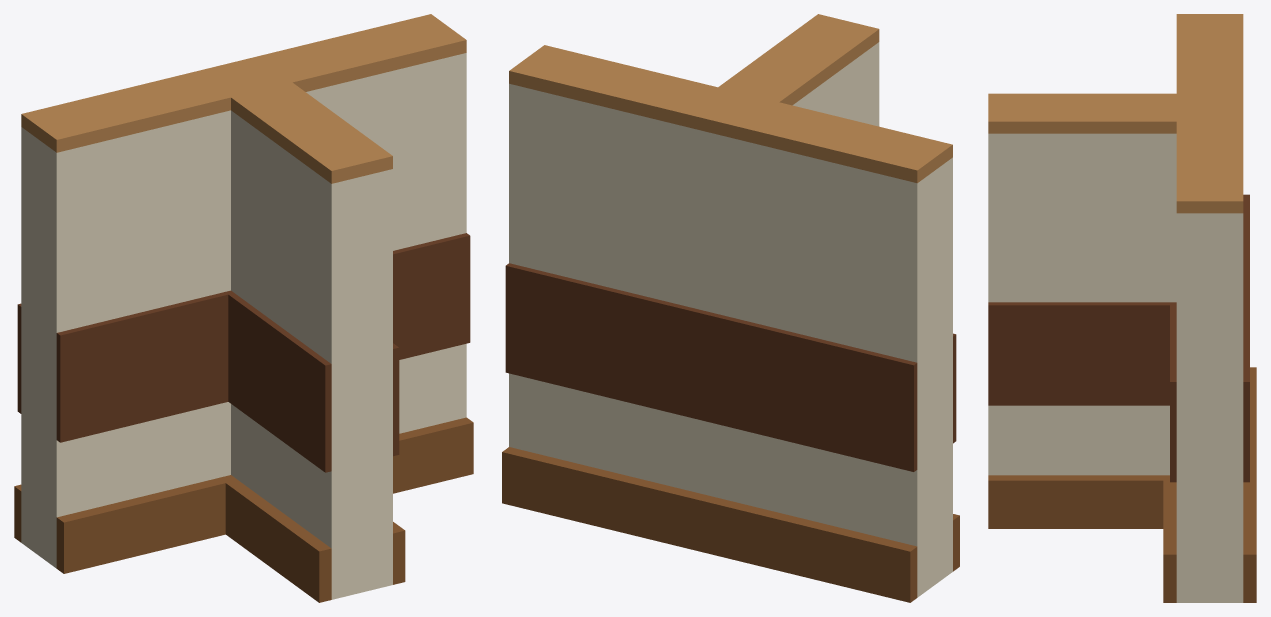
The model's file is partition-full-tee.glb.
3 views of the same model, side by side, from view 1: azimuth 30°, elevation 25°; view 2: azimuth 150°, elevation 25°; view 3: azimuth 270°, elevation 25° (orthographic). The views are drawn at different scales.
Parts seen in each view (by area): view 1: partition-full-tee; view 2: partition-full-tee; view 3: partition-full-tee.
Boxes of the visible parts, <box> form: partition-full-tee: <box>14,14,473,602</box>; partition-full-tee: <box>502,14,959,602</box>; partition-full-tee: <box>988,14,1256,602</box>.
Size of the model in its own units: 1 by 1 by 0.605.
1 material, 1 textured.
